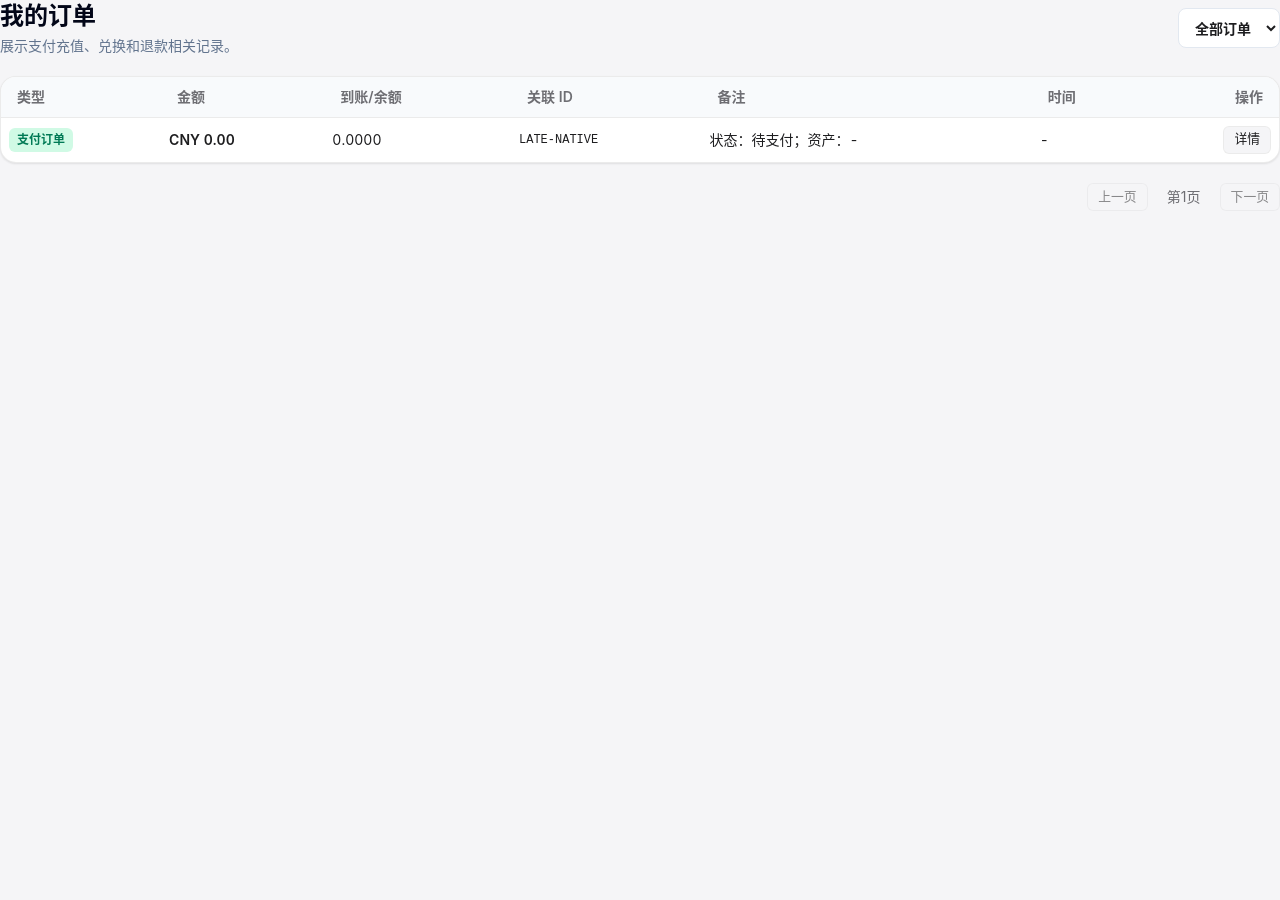
Test: OrdersPage › keeps a closed Native order dialog closed when its refresh finishes
The width and height of the screenshot is (1280, 900).
Click the button with aria-label "查看订单 LATE-NATIVE" at x=1247, y=140, box x1=1223 y1=126 x2=1271 y2=154
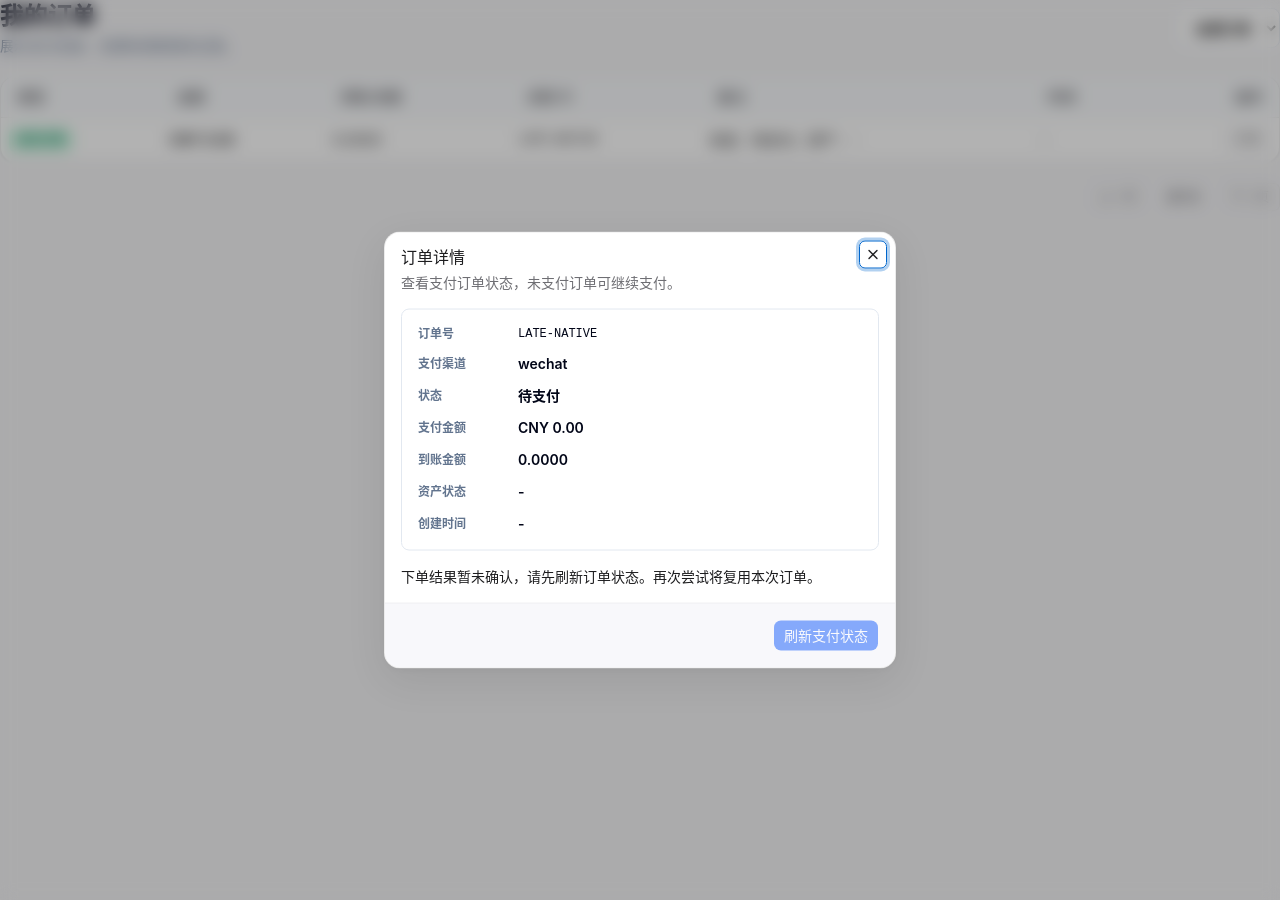
Click the button named "关闭" at x=873, y=254, box x1=859 y1=240 x2=887 y2=268
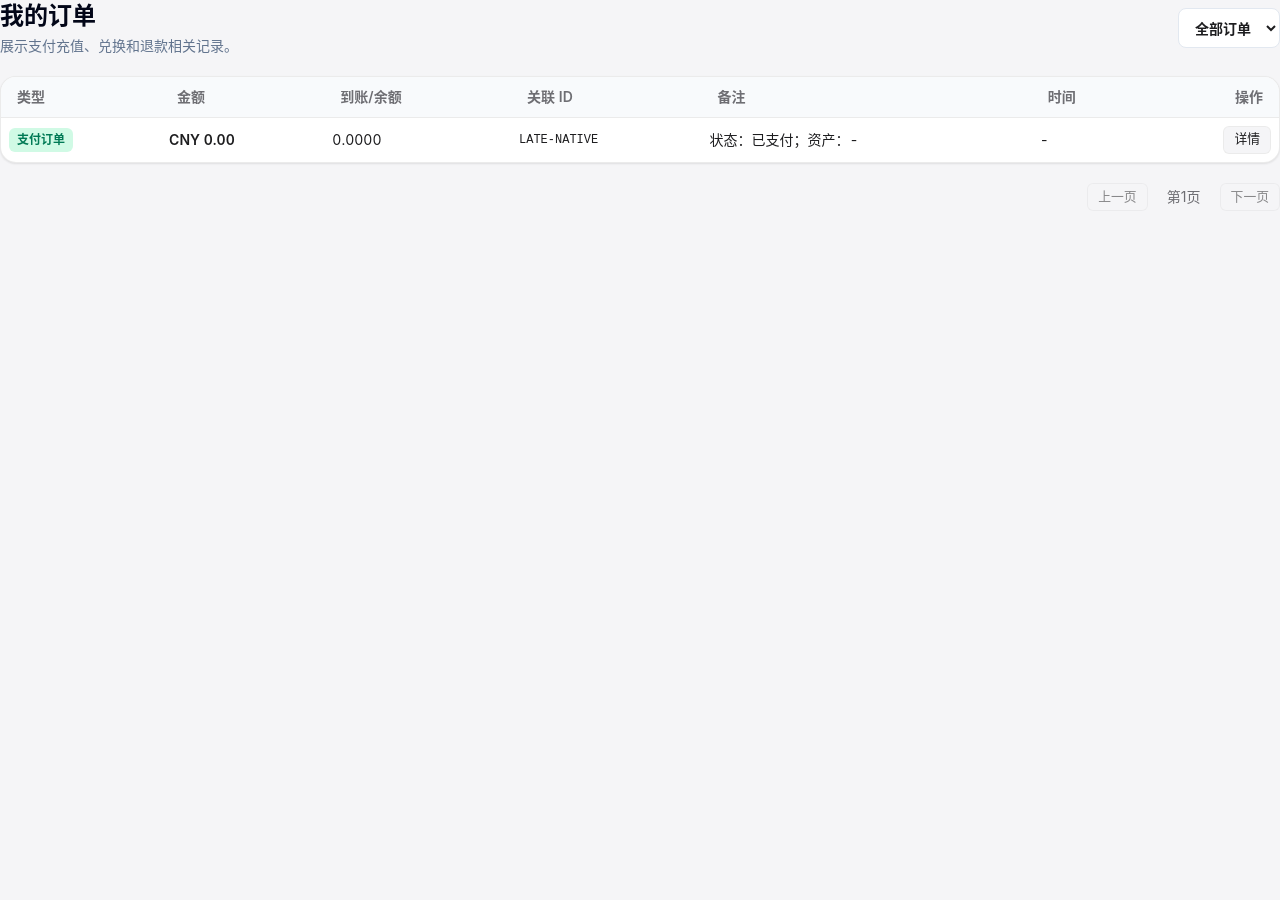
Check: the button with aria-label "查看订单 LATE-NATIVE" is enabled, box x1=1223 y1=126 x2=1271 y2=154
Check: the dialog is gone
